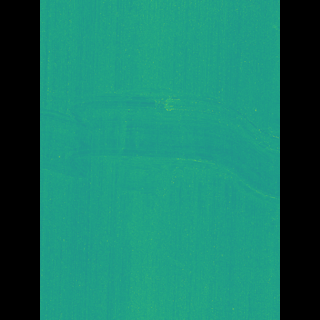Loch: (69, 80, 249, 226)
